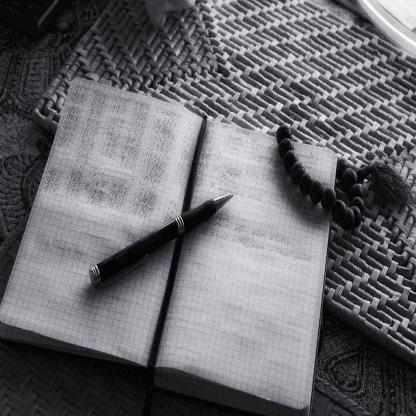Pen: (88, 193, 234, 290)
